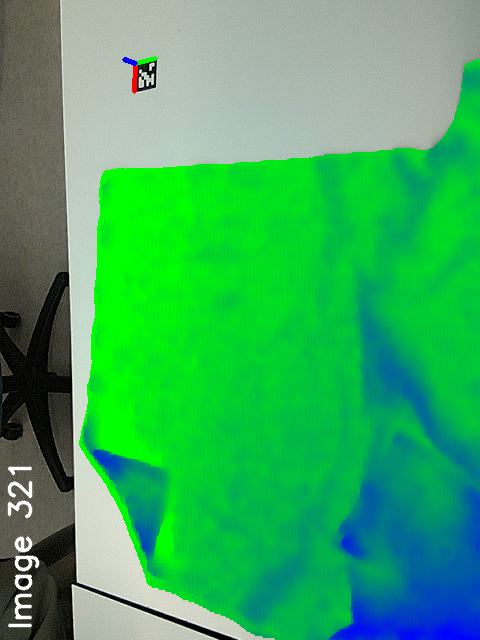V: (143, 445, 188, 495), (380, 421, 425, 469)
